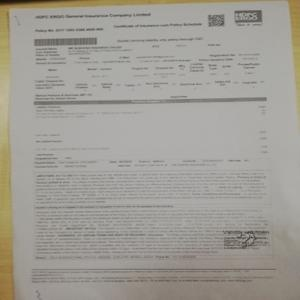image: (234, 7, 263, 24)
table: (35, 96, 270, 153), (32, 48, 268, 99)
text: (34, 209, 273, 255), (37, 169, 268, 207)
